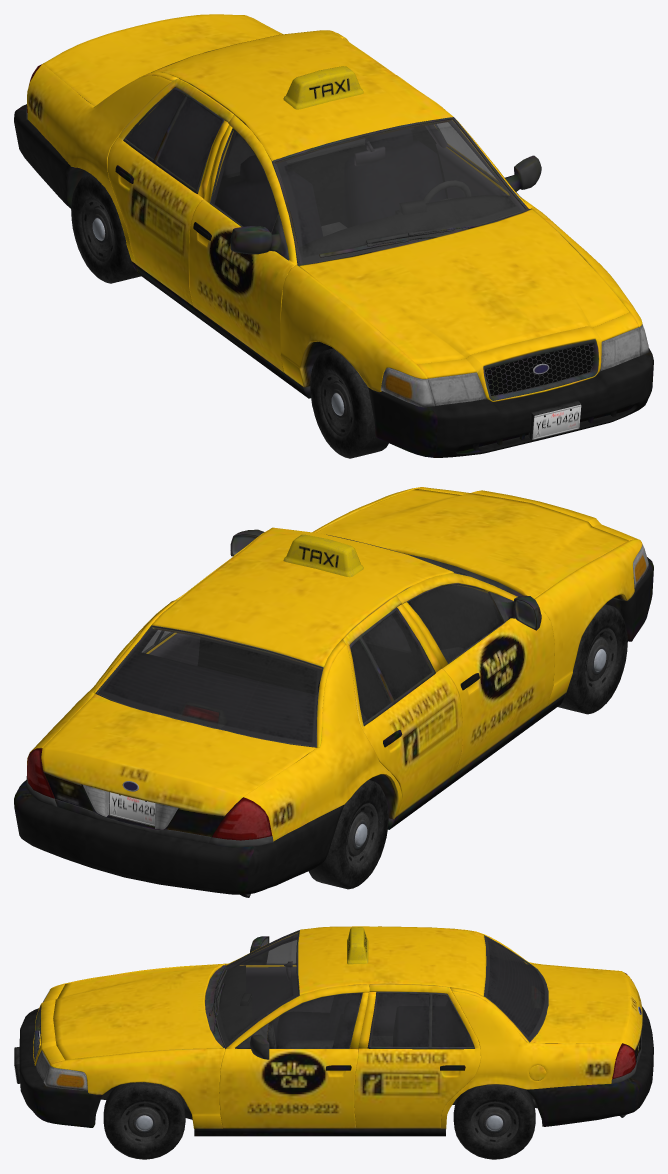
Rendered from taxi.glb.
3 renders of one model, top to bottom at view 1: azimuth 30°, elevation 25°; view 2: azimuth 150°, elevation 25°; view 3: azimuth 270°, elevation 25°, orthographic. The views are drawn at different scales.
Visible parts, largest first — view 1: crown_vic_taxi, taxi_sign; view 2: crown_vic_taxi, taxi_sign; view 3: crown_vic_taxi, taxi_sign.
Boxes of the visible parts, x1,y1,x2,y2 form: crown_vic_taxi: (14, 14, 653, 458); taxi_sign: (283, 66, 363, 109); crown_vic_taxi: (14, 487, 653, 897); taxi_sign: (283, 534, 363, 577); crown_vic_taxi: (14, 926, 653, 1159); taxi_sign: (347, 927, 368, 964).
Bounding box in the file's own units: 2.64 × 2.01 × 6.52.
8 materials, 8 textured.
